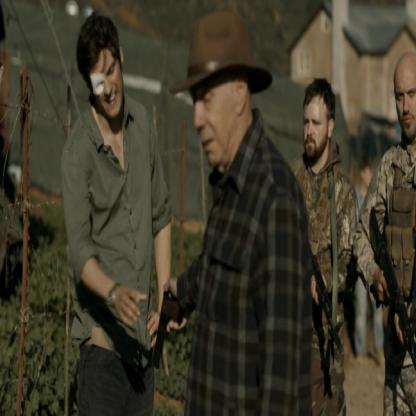Guns: (368, 204, 416, 369), (302, 234, 345, 358), (148, 287, 185, 368)
